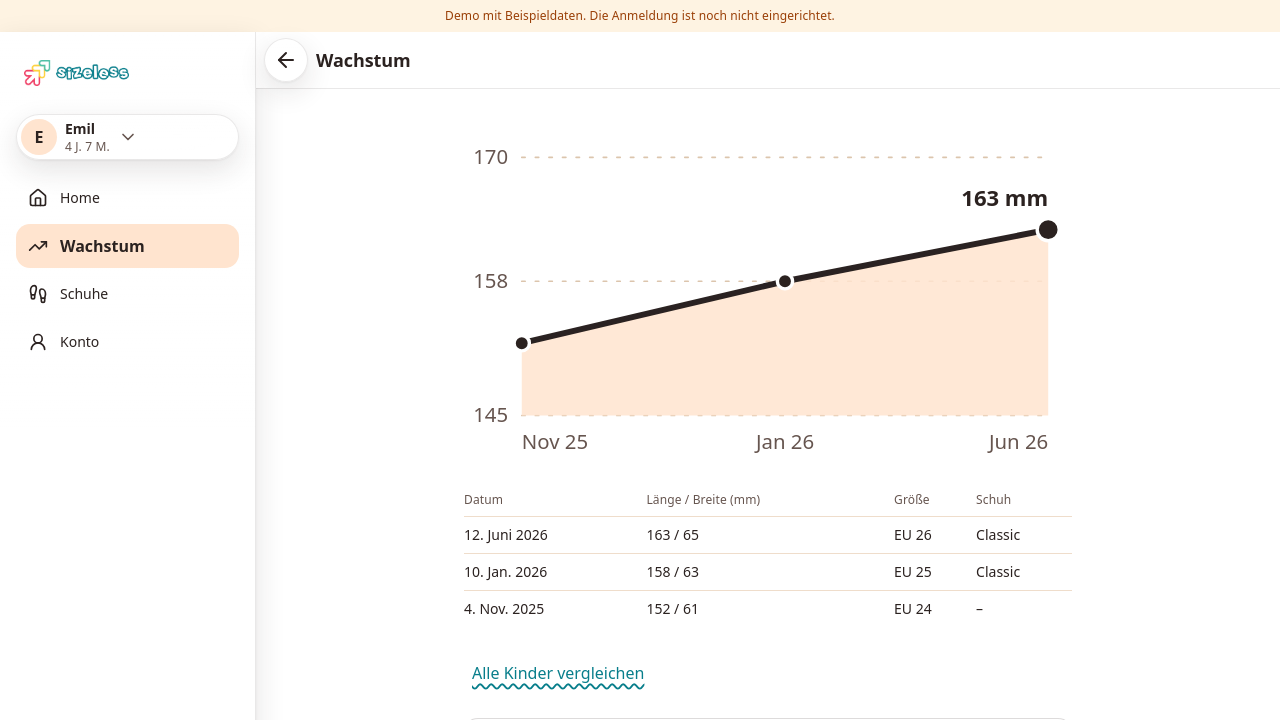
Scenario: Growth (S15) › compares all kids with a legend
Click the link "Alle Kinder vergleichen": (558, 673) [472,662,644,684]
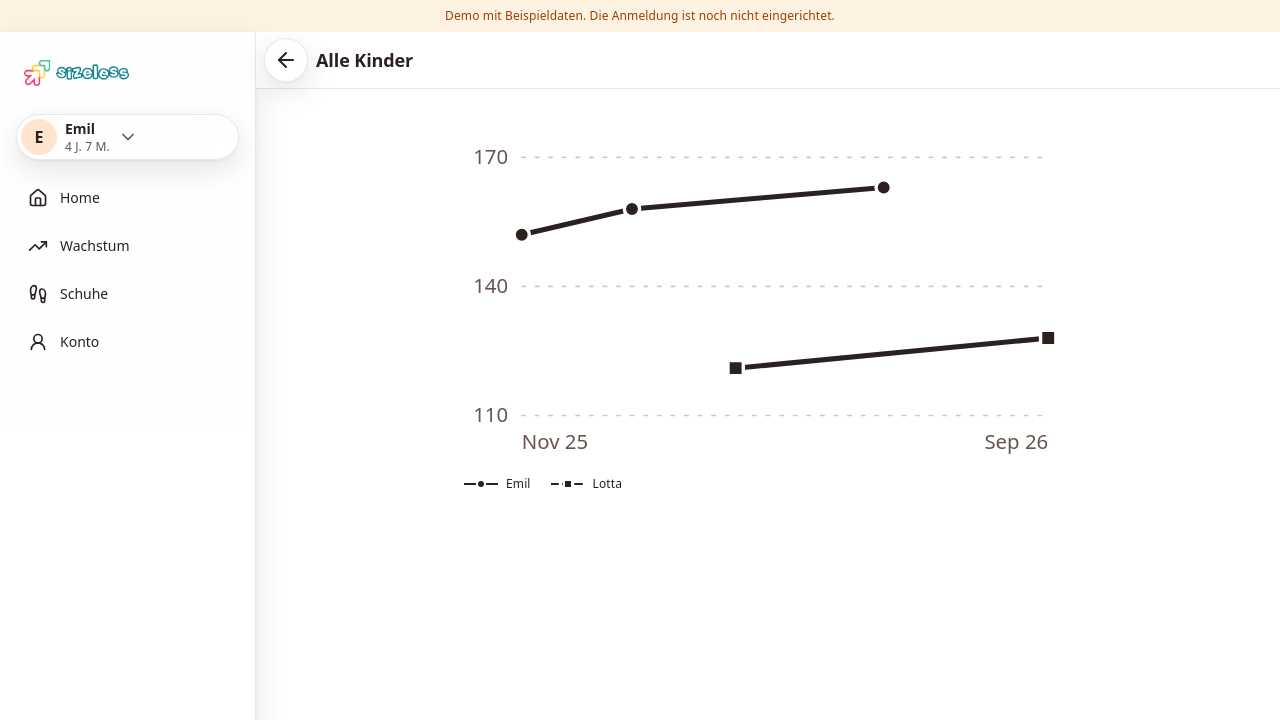
Expected: the picture named "Fußlänge aller Kinder in mm" is shown, [464,120,1072,460]
